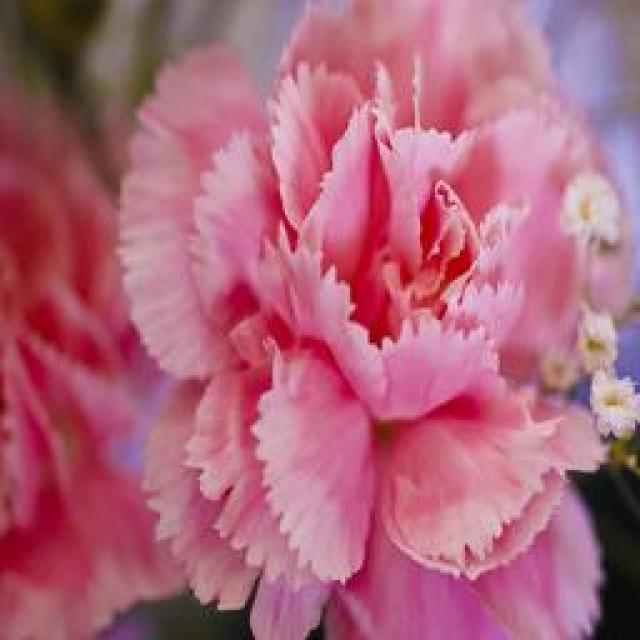carnation: (102, 0, 584, 640)
